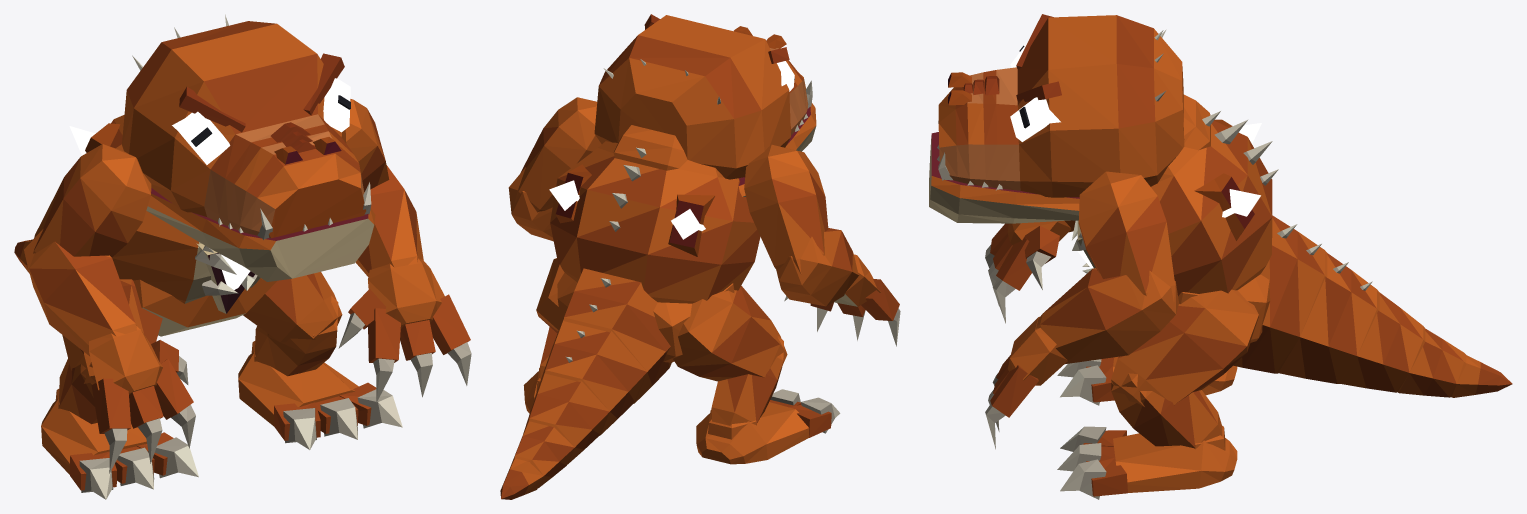
Rendered from kaiju_lizard_s1.glb.
The picture shows the model from 3 angles, left to right: view 1: azimuth 30°, elevation 25°; view 2: azimuth 150°, elevation 25°; view 3: azimuth 270°, elevation 25°; orthographic projection. The views are drawn at different scales.
Parts seen in each view (by area): view 1: head, hand_L, hand_R, arm_R, foot_L, jaw, torso, forearm_R, foot_R, leg_L, forearm_L, hips (+5 smaller); view 2: head, torso, arm_R, leg_R, tail_1, foot_R, tail_2, arm_L, forearm_R, tail_3, shin_R, hand_R (+9 smaller); view 3: head, torso, leg_L, foot_L, forearm_L, arm_L, tail_2, tail_1, jaw, tail_3, shin_L, hand_R (+8 smaller).
Part boxes in pixels (bbox=[...]): head: bbox=[122, 14, 366, 238]; hand_L: bbox=[338, 258, 471, 402]; hand_R: bbox=[89, 326, 195, 473]; arm_R: bbox=[33, 144, 151, 257]; foot_L: bbox=[238, 341, 402, 449]; jaw: bbox=[146, 182, 375, 281]; torso: bbox=[85, 114, 260, 313]; forearm_R: bbox=[24, 229, 136, 356]; foot_R: bbox=[41, 389, 198, 499]; leg_L: bbox=[243, 272, 342, 343]; forearm_L: bbox=[355, 165, 423, 276]; hips: bbox=[133, 278, 277, 336]; head: bbox=[594, 14, 808, 179]; torso: bbox=[550, 141, 760, 303]; arm_R: bbox=[744, 144, 828, 274]; leg_R: bbox=[673, 285, 787, 381]; tail_1: bbox=[553, 268, 671, 403]; foot_R: bbox=[696, 389, 840, 464]; tail_2: bbox=[537, 320, 646, 435]; arm_L: bbox=[514, 97, 601, 212]; forearm_R: bbox=[776, 228, 858, 306]; tail_3: bbox=[523, 373, 609, 464]; shin_R: bbox=[711, 335, 783, 425]; hand_R: bbox=[784, 254, 900, 346]; head: bbox=[938, 14, 1184, 197]; torso: bbox=[1072, 119, 1272, 295]; leg_L: bbox=[1111, 289, 1258, 406]; foot_L: bbox=[1057, 426, 1237, 499]; forearm_L: bbox=[1036, 268, 1178, 363]; arm_L: bbox=[1078, 171, 1175, 301]; tail_2: bbox=[1278, 253, 1379, 383]; tail_1: bbox=[1233, 215, 1327, 373]; jaw: bbox=[929, 121, 1079, 223]; tail_3: bbox=[1340, 292, 1425, 392]; shin_L: bbox=[1111, 373, 1222, 447]; hand_R: bbox=[985, 221, 1071, 323].
Size of the model in its own units: 4.26 by 4.5 by 6.1.
